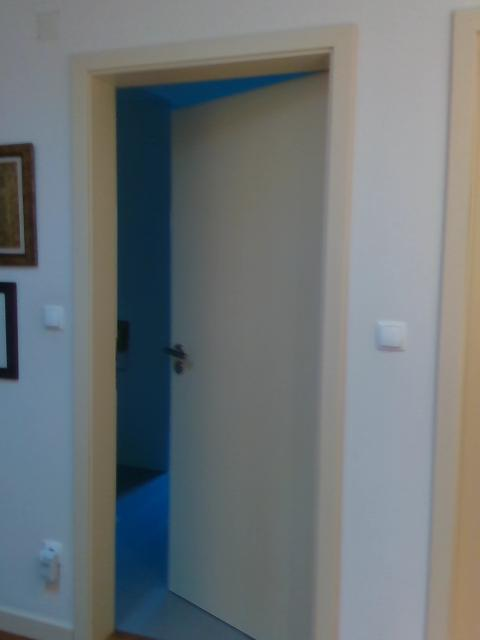semi_door: (70, 21, 355, 639)
